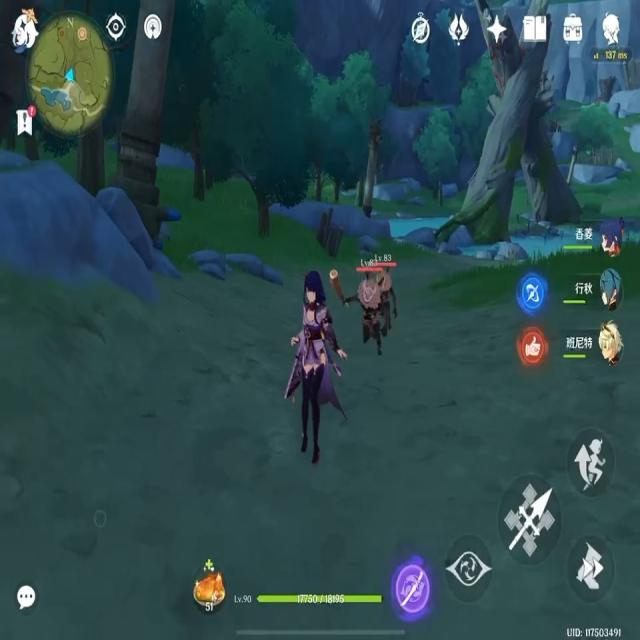genshin-hilichurls: (354, 271, 383, 357)
